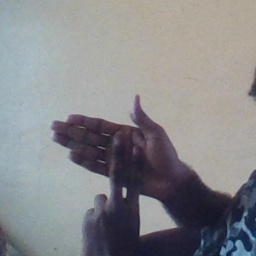N: (45, 92, 185, 230)
